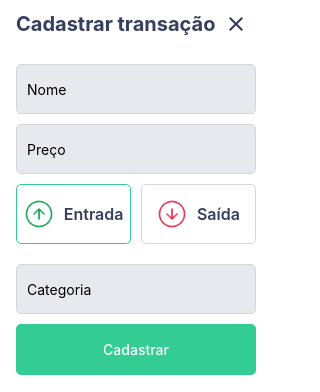
Scenario: TransactionForm › should apply the value in amount
Type "123" into the field with test id "amount-input" at (136, 149), box [16,124,256,174]
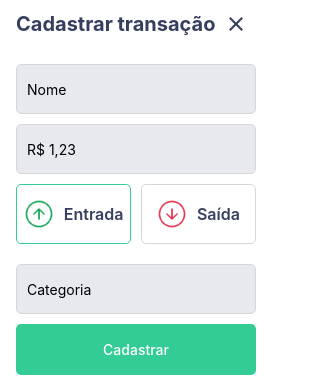
Check: the field with test id "amount-input" holds "R$ 1,23", box [16,124,256,174]
